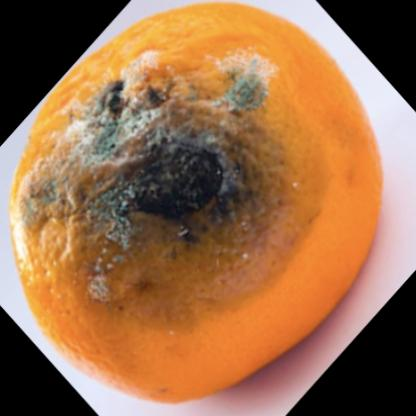rotten: (15, 6, 384, 402)
